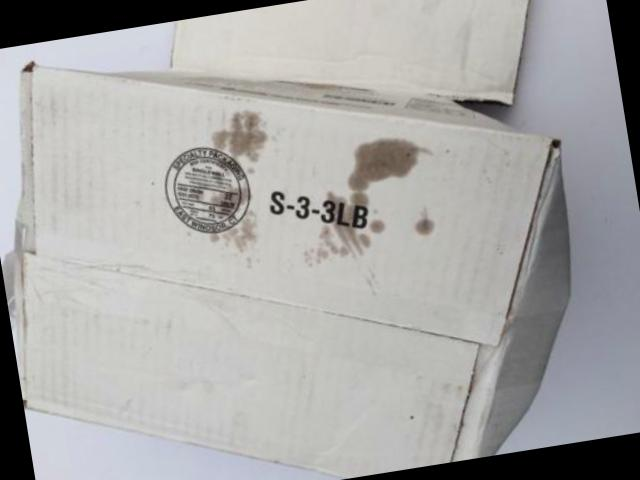cardboard paper: (12, 64, 566, 477), (168, 0, 524, 102)
